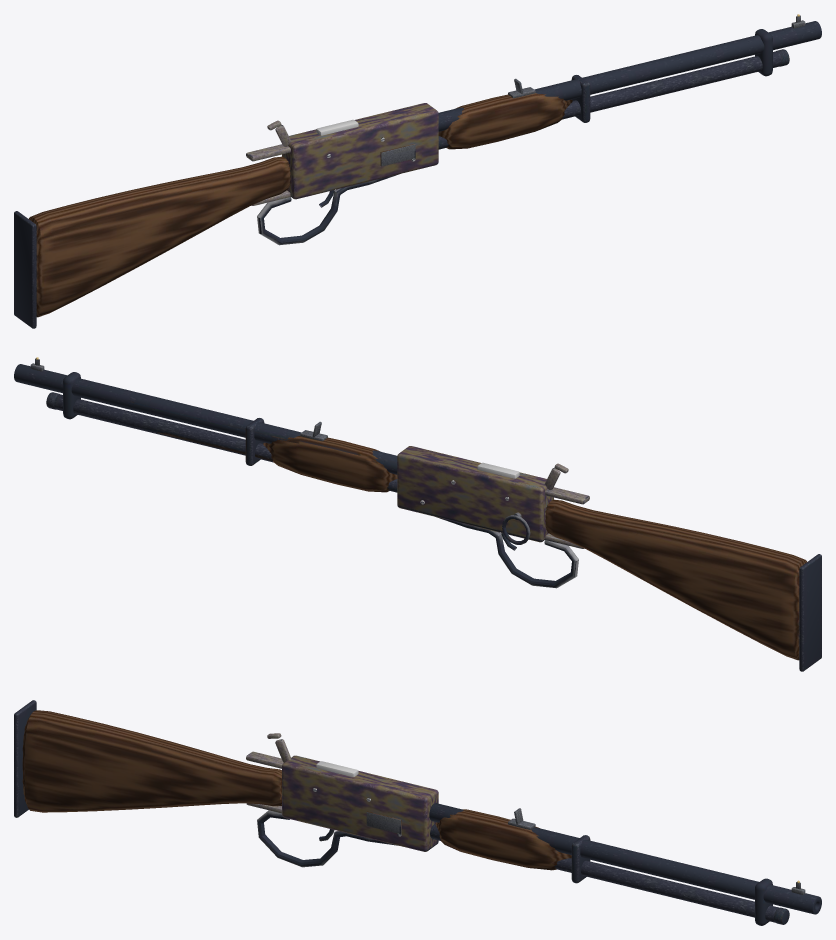
File: carbine.glb
The picture shows the model from 3 angles, top to bottom: view 1: azimuth 30°, elevation 25°; view 2: azimuth 150°, elevation 25°; view 3: azimuth 330°, elevation 25°; orthographic projection.
Parts seen in each view (by area): view 1: stock, receiver, barrel, forend, magazine, butt_plate, lever; view 2: stock, receiver, barrel, forend, magazine, butt_plate, lever; view 3: stock, receiver, barrel, forend, magazine, lever, butt_plate, barrel_band, loading_gate, forend_cap.
Part boxes in pixels (left/top/right/bottom): stock: left=29, top=156, right=290, bottom=317; receiver: left=282, top=103, right=438, bottom=199; barrel: left=438, top=21, right=821, bottom=131; forend: left=438, top=93, right=572, bottom=149; magazine: left=438, top=51, right=781, bottom=149; butt_plate: left=14, top=211, right=36, bottom=328; lever: left=257, top=174, right=399, bottom=245; stock: left=545, top=499, right=806, bottom=660; receiver: left=397, top=446, right=553, bottom=542; barrel: left=14, top=364, right=397, bottom=474; forend: left=263, top=435, right=397, bottom=492; magazine: left=54, top=394, right=397, bottom=492; butt_plate: left=799, top=554, right=821, bottom=671; lever: left=436, top=517, right=578, bottom=588; stock: left=22, top=710, right=281, bottom=812; receiver: left=282, top=755, right=438, bottom=851; barrel: left=429, top=803, right=821, bottom=914; forend: left=435, top=809, right=571, bottom=870; magazine: left=430, top=824, right=778, bottom=922; lever: left=257, top=810, right=397, bottom=867; butt_plate: left=14, top=700, right=36, bottom=817; barrel_band: left=755, top=878, right=772, bottom=925; loading_gate: left=366, top=811, right=401, bottom=834; forend_cap: left=571, top=835, right=590, bottom=883.
Bounding box in the file's own units: 1.03 × 0.173 × 0.0452.
Materials: 1 (1 with a texture image).
